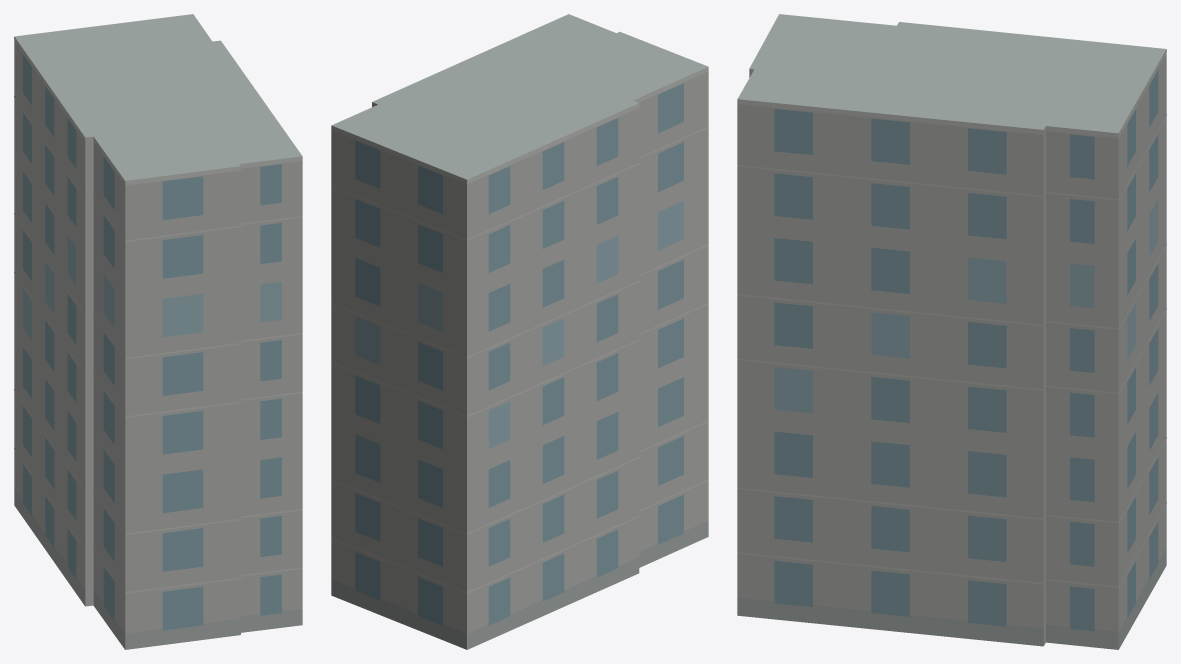
File: survey-upis-32732538.glb
3 views of the same model, side by side, from view 1: azimuth 30°, elevation 25°; view 2: azimuth 150°, elevation 25°; view 3: azimuth 270°, elevation 25° (orthographic). The views are drawn at different scales.
Parts seen in each view (by area): view 1: survey-upis-32732538.tmp; view 2: survey-upis-32732538.tmp; view 3: survey-upis-32732538.tmp.
Boxes of the visible parts, bbox=[...] form: survey-upis-32732538.tmp: bbox=[14, 14, 302, 649]; survey-upis-32732538.tmp: bbox=[331, 14, 708, 649]; survey-upis-32732538.tmp: bbox=[737, 14, 1166, 649].
Bounding box in the file's own units: 12.12 × 24.4 × 18.4.
